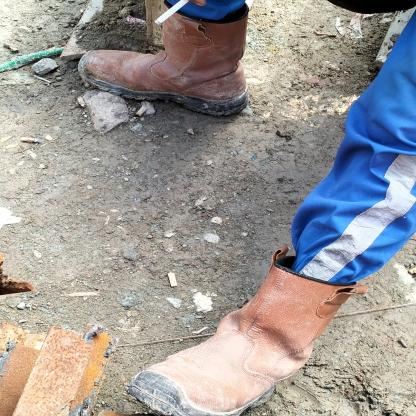bota: (137, 253, 335, 412), (63, 3, 261, 118)
